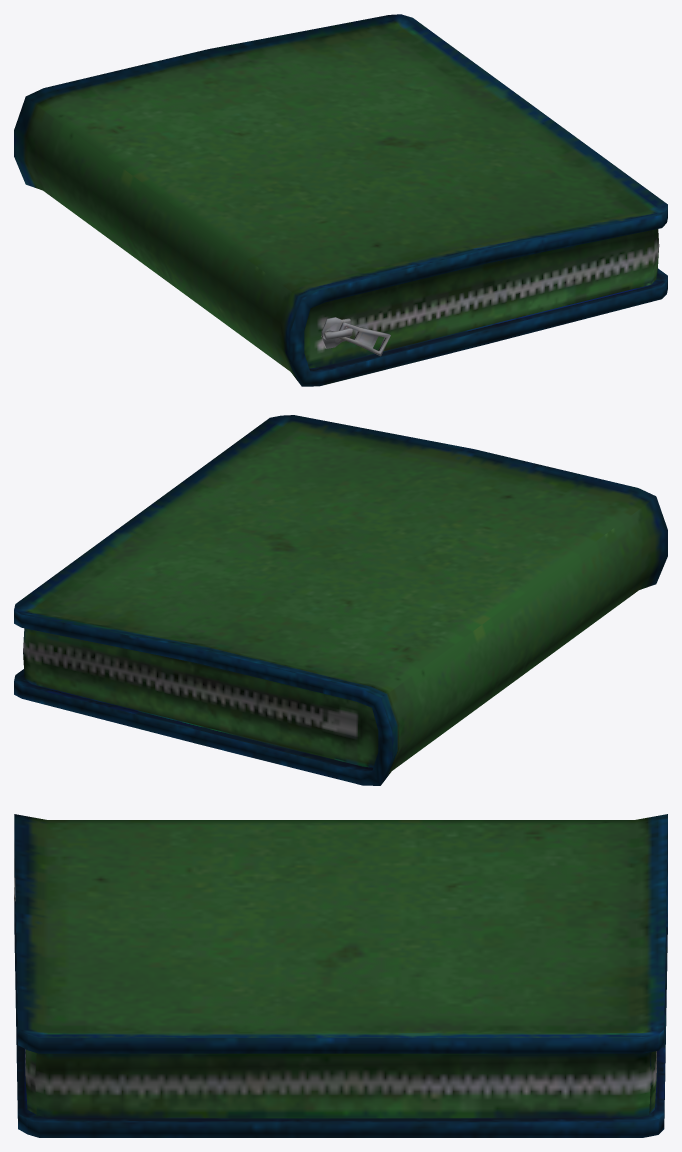
The model's file is case_pens.DAE.
3 renders of one model, top to bottom at view 1: azimuth 30°, elevation 25°; view 2: azimuth 150°, elevation 25°; view 3: azimuth 270°, elevation 25°, orthographic. The views are drawn at different scales.
Visible parts, largest first — view 1: case_pens; view 2: case_pens; view 3: case_pens.
Boxes of the visible parts, x1,y1,x2,y2 form: case_pens: [14, 14, 667, 386]; case_pens: [14, 415, 667, 785]; case_pens: [14, 814, 667, 1137].
Bounding box in the file's own units: 9.94 × 2.35 × 12.25.
